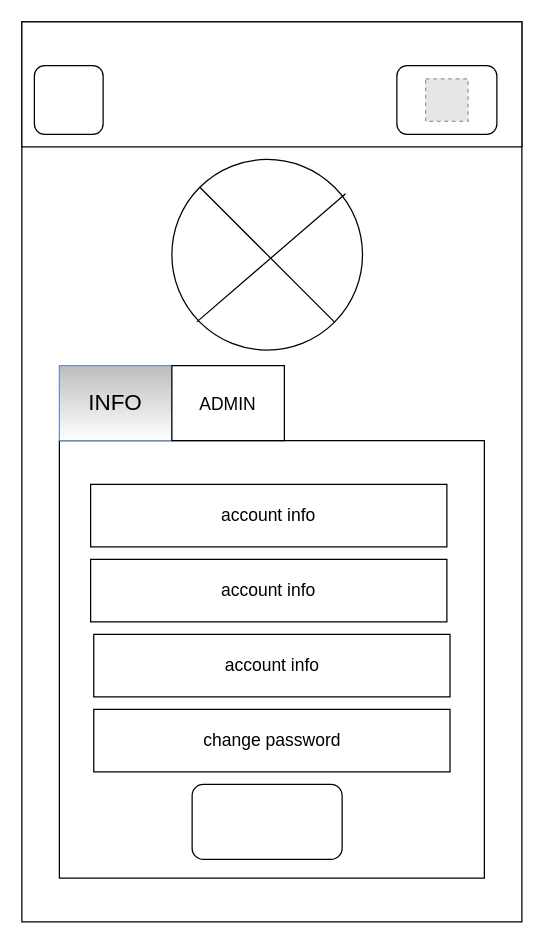
Some shapes in this 544 by 944 pixel diagram are drawn without their labels. Grey dashed boxes stand in for pictures. The shapes that lost their labels are listed below. From the top down, each one's centre as x and y in pixels, then its label:
the point at 68,99: LOGO
the point at 266,821: DELETE ACCOUNT
